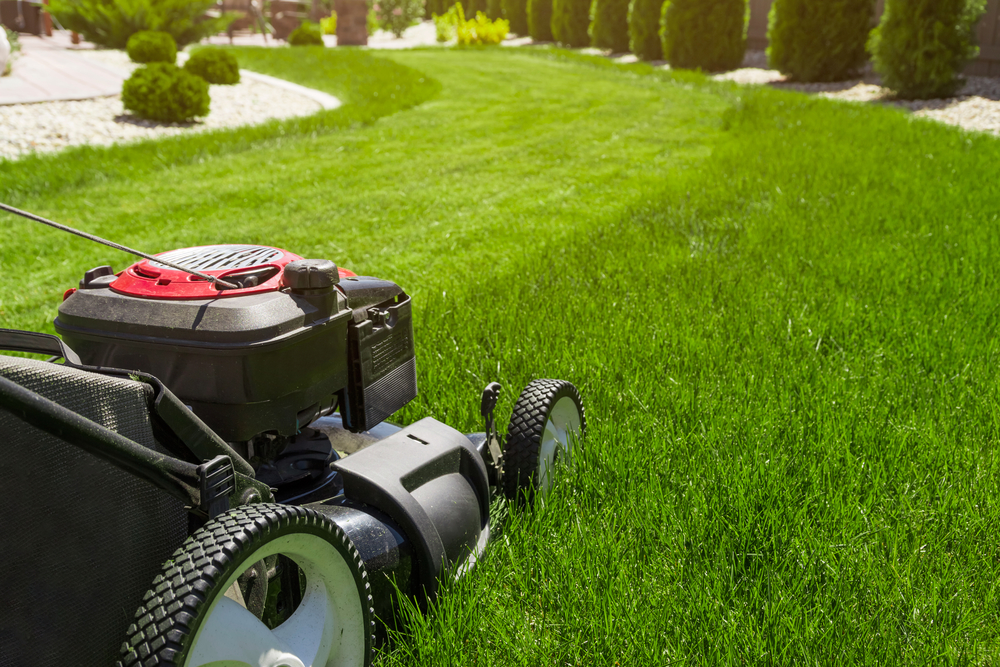grass: (586, 141, 1000, 667)
